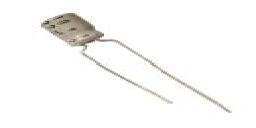Electrolytic-Capacitor: (40, 10, 236, 119)
